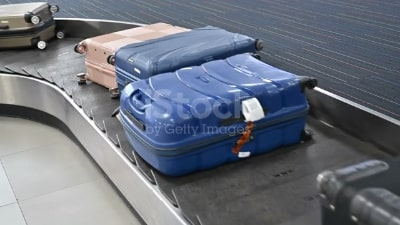baggage: (114, 52, 321, 179), (115, 25, 265, 95), (72, 20, 196, 96), (1, 1, 66, 57)
